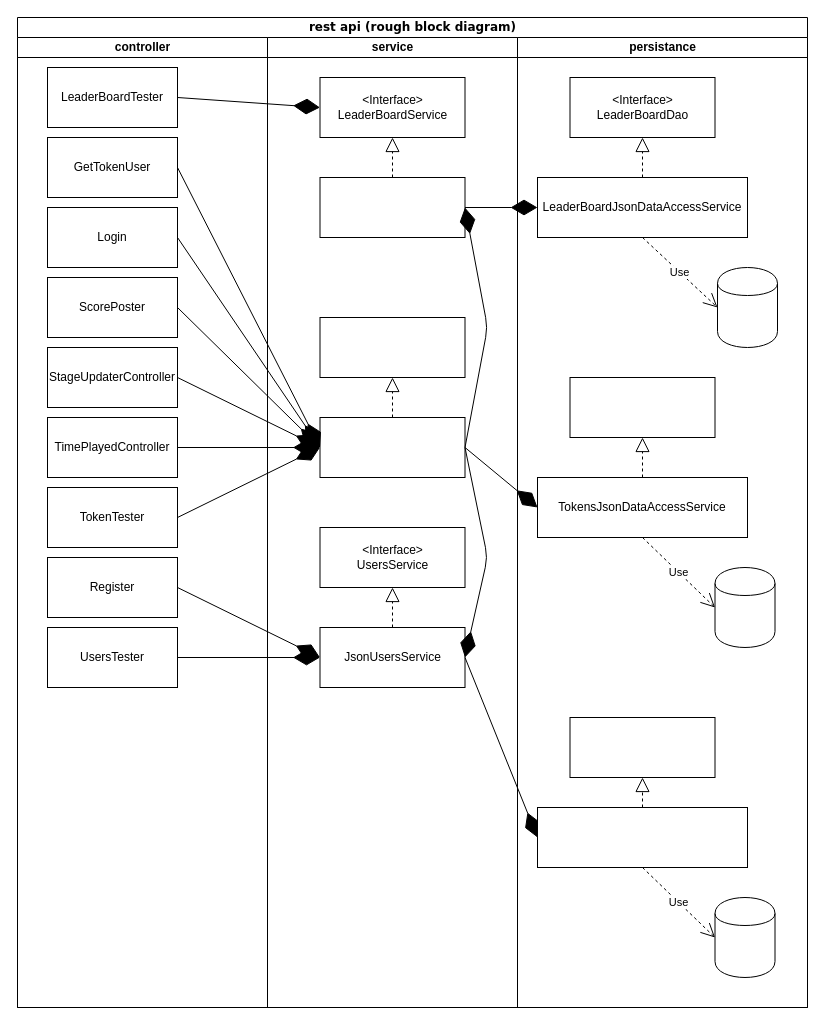
Image size: 825x1025. Some labels were removed from this diagram. The box of each missing label's shape, as (x1, y1, x2, y2) in pixels:
<Interface> TokensDao: (569, 376, 715, 438)
<Interface> TokensService: (319, 316, 465, 378)
<Interface> UsersDao: (569, 716, 715, 778)
JsonLeaderBoardService: (319, 176, 465, 238)
JsonTokensService: (319, 416, 465, 478)
Leader Board DB: (716, 266, 778, 348)
Tokens DB: (714, 566, 775, 648)
User DB: (714, 896, 775, 978)
UserJsonDataAccessService: (536, 806, 748, 868)
